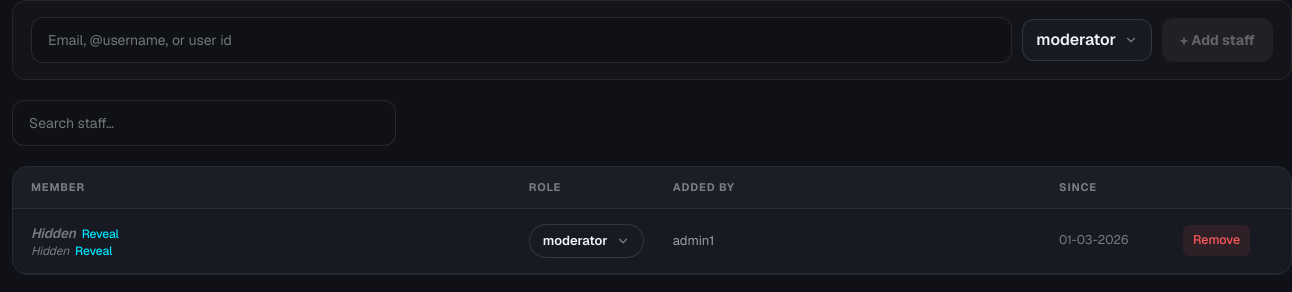
Test case: StaffTab › streamer mode › masks the identity (with a name-free role-select label) until the row is revealed
Expected: the dropdown named "Change role for this member" is shown, [529,224,644,258]
Expected: the text "bob" is not shown
// Both fields share the row id, so a single reveal unmasks the identity.
What coordinates should you click on to do the following:
click the 1st button "Reveal"
I would click on:
 (100, 234)
Its box is [82,226,119,242].
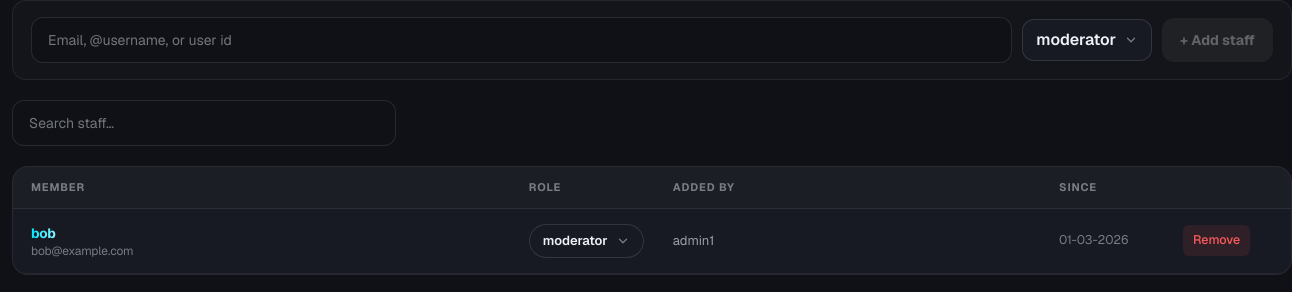
Result: the text "bob" is shown at [31,222,56,243]
Result: the text "bob@example.com" is shown at [31,243,134,259]
